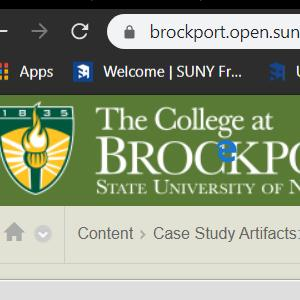edge: (215, 139, 237, 162)
